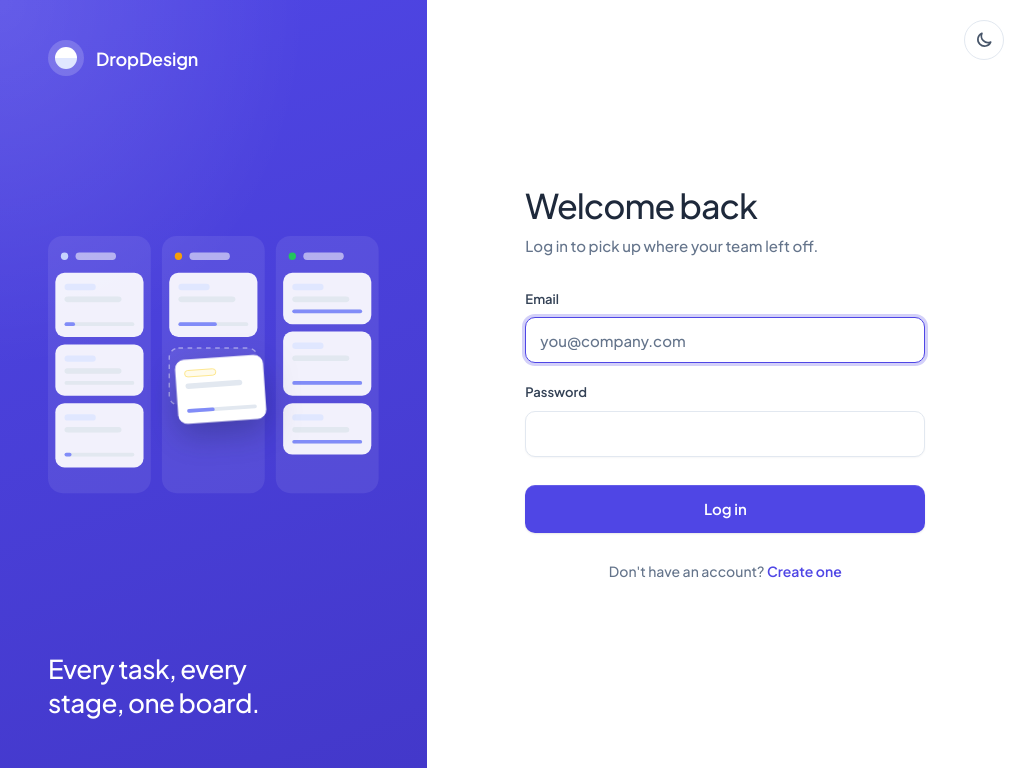
Scenario: AuthPage: rate limiting › shows the server's 429 message (when to try again) and lets the person retry later
The image size is (1024, 768).
Type "ana@example.com" into the field labelled "Email" at (725, 340), box [525, 317, 925, 363]
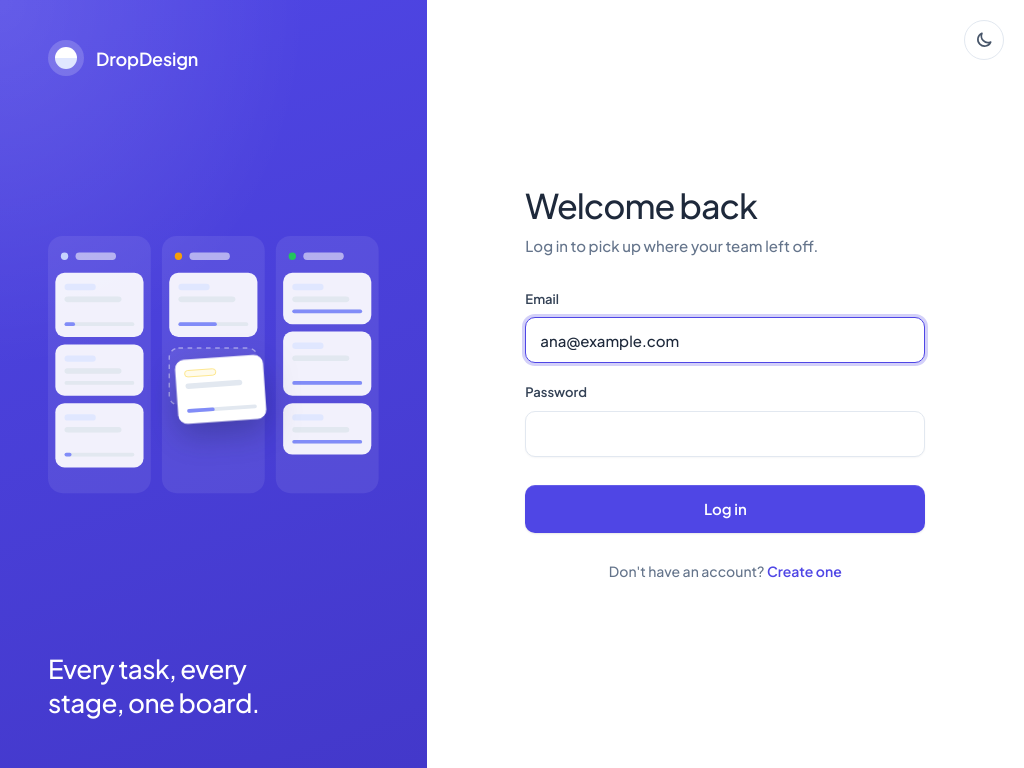
Type "not-it" into the password field labelled "Password" at (725, 434), box [525, 411, 925, 457]
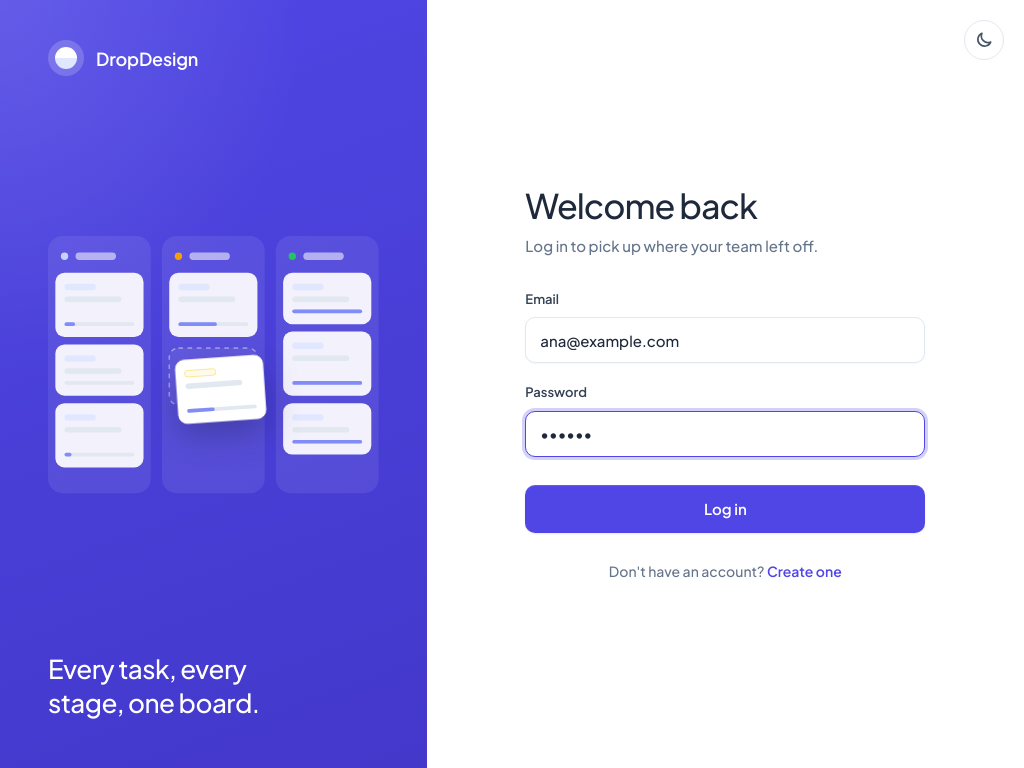
Click the button "Log in" at (725, 509), box [525, 485, 925, 533]
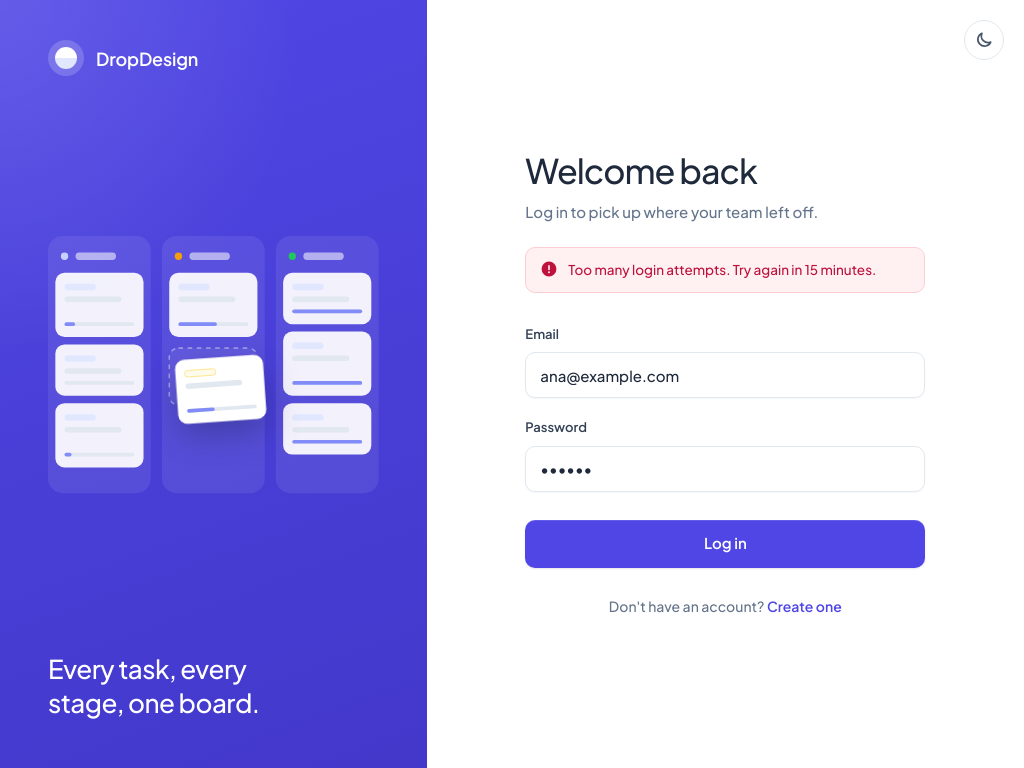
Check: the button "Log in" is enabled, box [525, 520, 925, 568]
Check: the message reads "Too many login attempts. Try again in 15 minutes.", box [568, 261, 876, 278]
